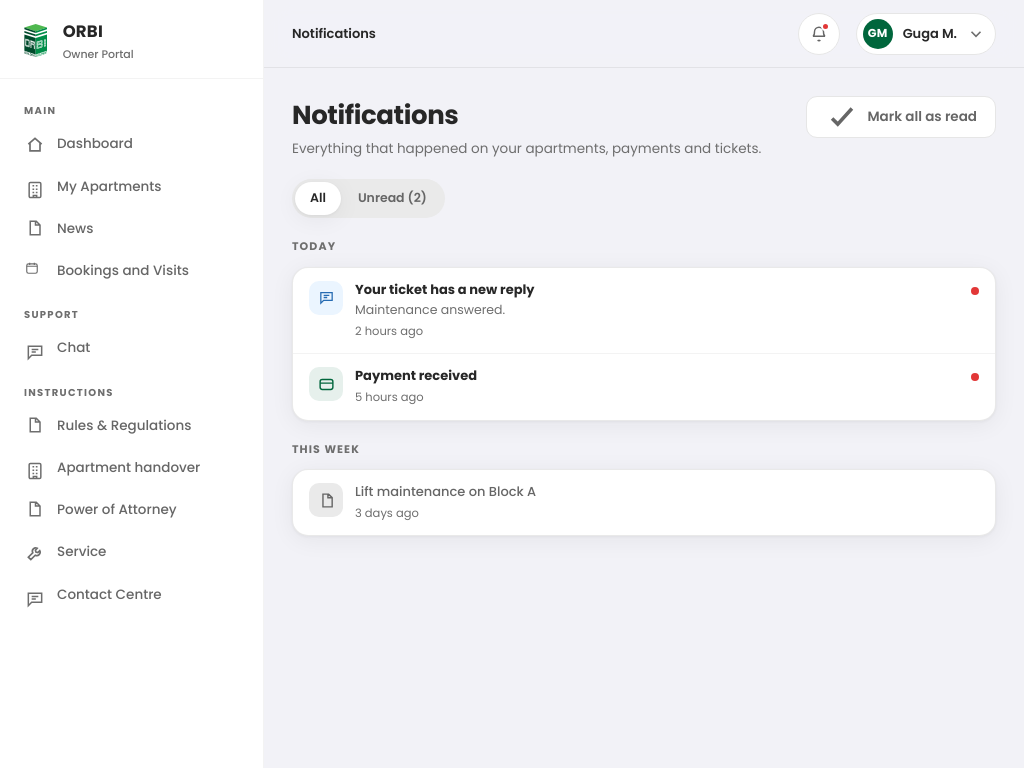
it: the notifications page › reading everything leaves the unread tab with a message, not an empty page
Check: the text "Payment received" is shown, box [355,366,477,385]
Click the button "Mark all as read": click(901, 117) [806,96,996,138]
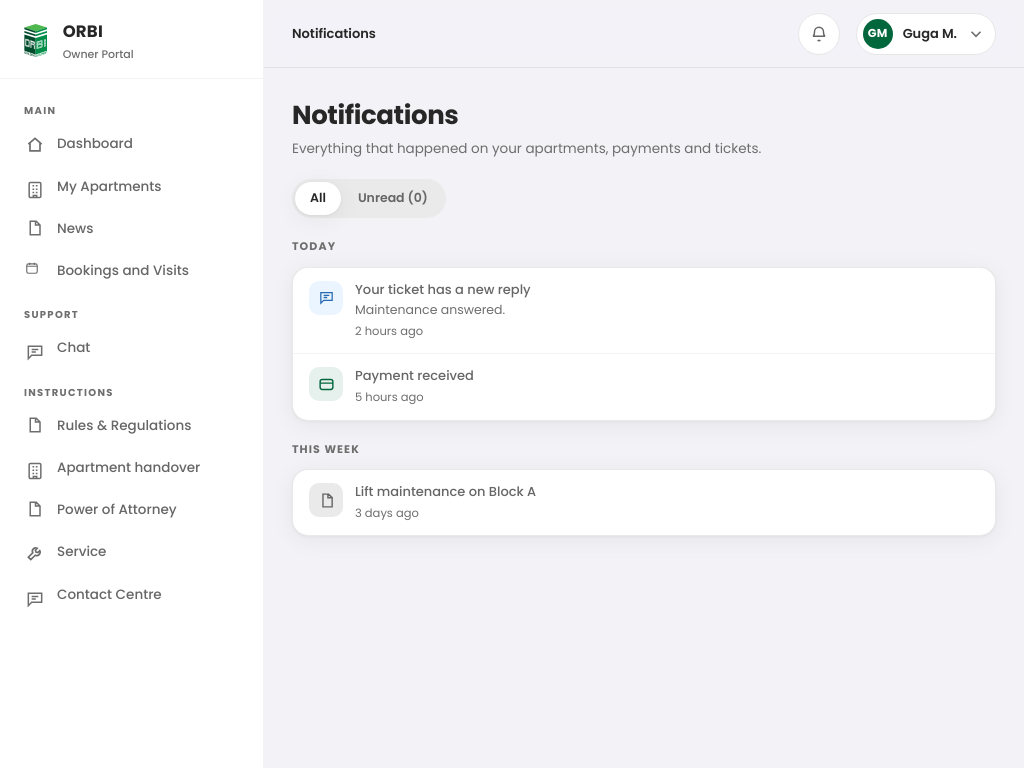
Click the tab "Unread (0)": click(393, 199) [343,182,443,215]
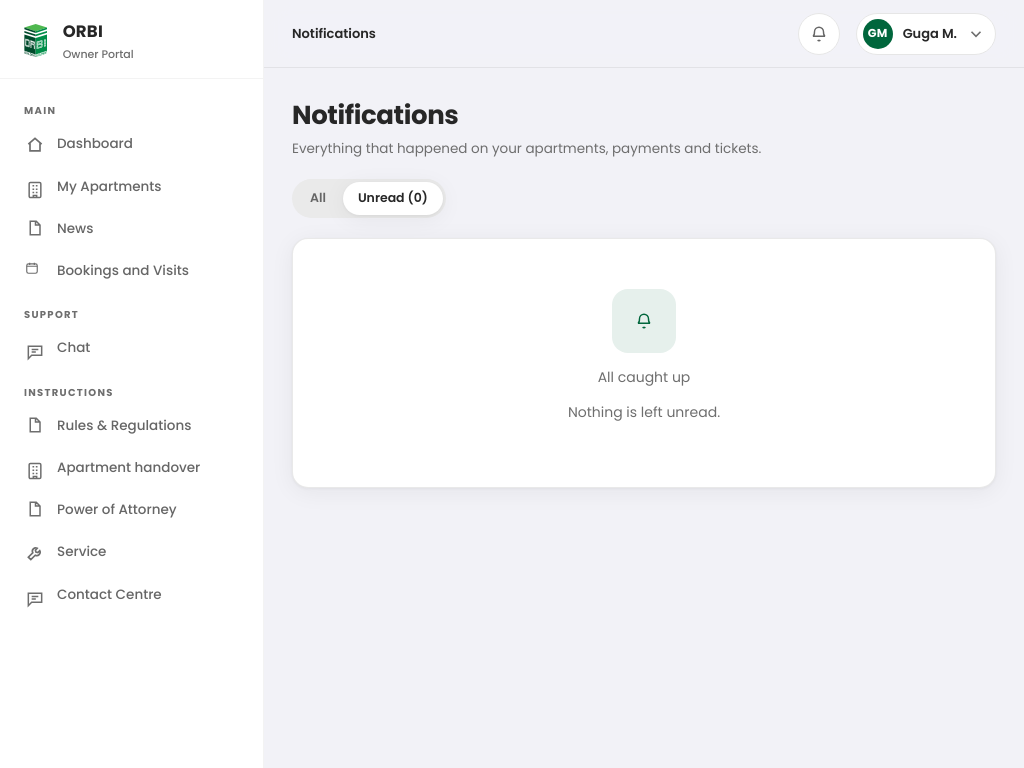
Check: the text "All caught up" is shown, box [598,367,690,387]
